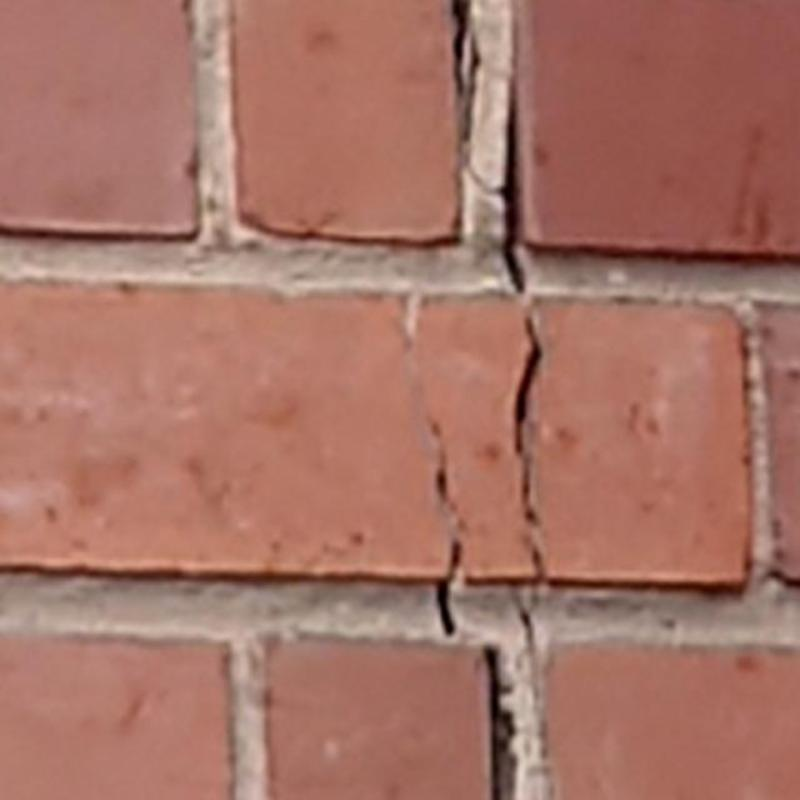crack: (452, 0, 503, 197), (514, 316, 543, 529), (511, 531, 544, 705), (503, 81, 525, 292), (430, 420, 468, 530), (487, 648, 514, 799), (436, 541, 461, 636)
